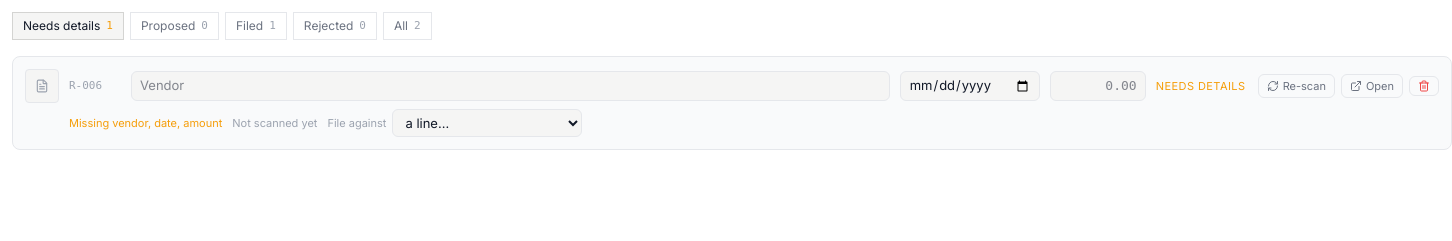
Scenario: RCP-18 — the bank opens on the work › every filter is reachable, with its count
The image size is (1452, 241).
Expected: the button with test id "receipts-filter-filed" reads "Filed 1", [225,12,287,40]
Click the button with test id "receipts-filter-all" at point(407, 26), box [383,12,432,40]
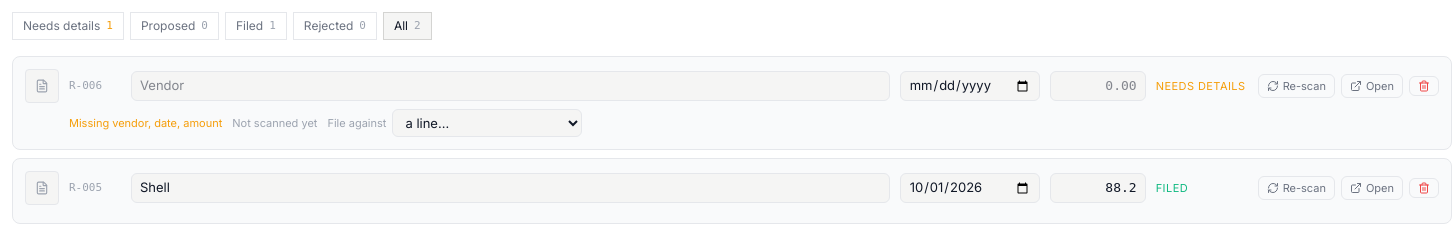
Result: the number of list items with test id "receipt-row" is 2 at [12,56,1451,150]; [12,158,1451,224]
